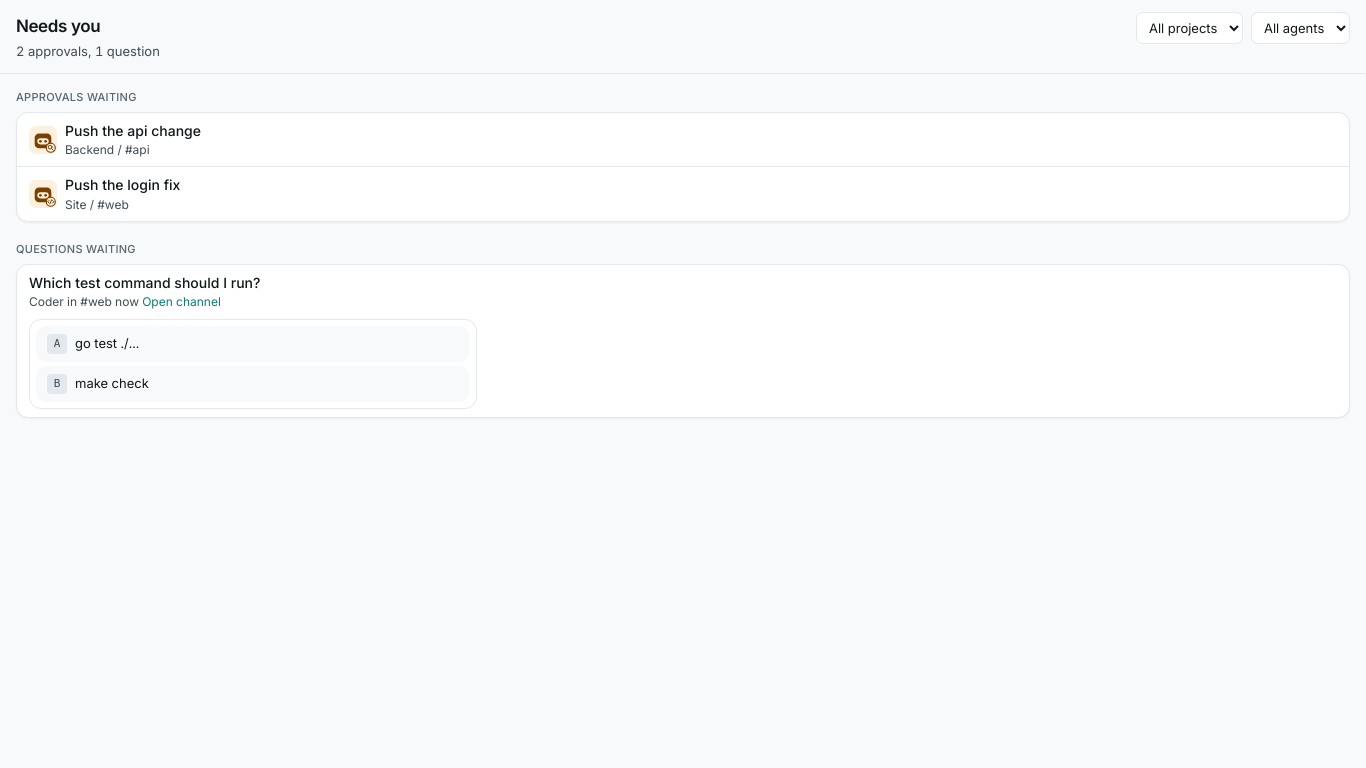
Scenario: ApprovalsInbox › expands a row into the full card
The width and height of the screenshot is (1366, 768).
Expected: the heading "Needs you" is shown, [16,16,100,36]
Click the button "Push the login fix Site / #web".
click(123, 185)  # box [29,176,1337,213]
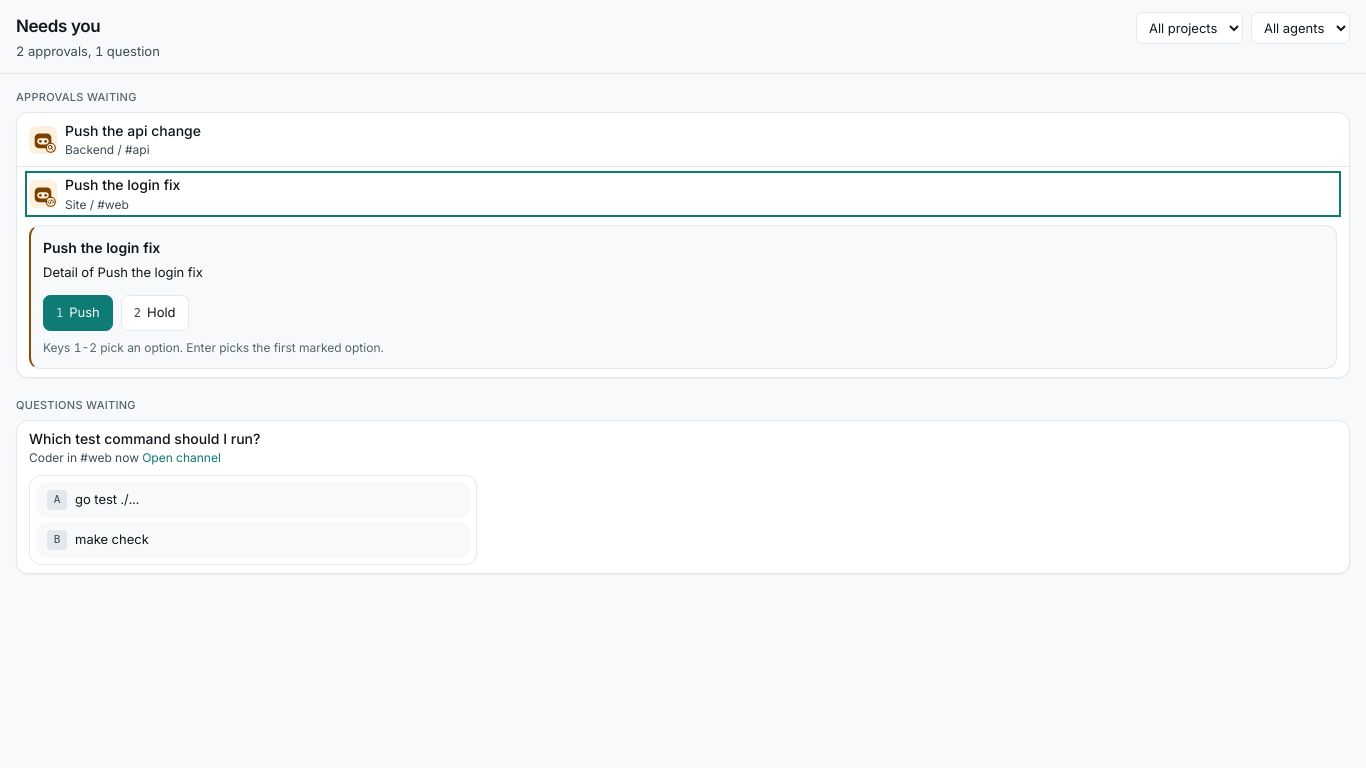
Result: the element "Push the login fix" is shown at [29,225,1337,369]
Result: the button "1Push" is shown at [43,295,113,331]
